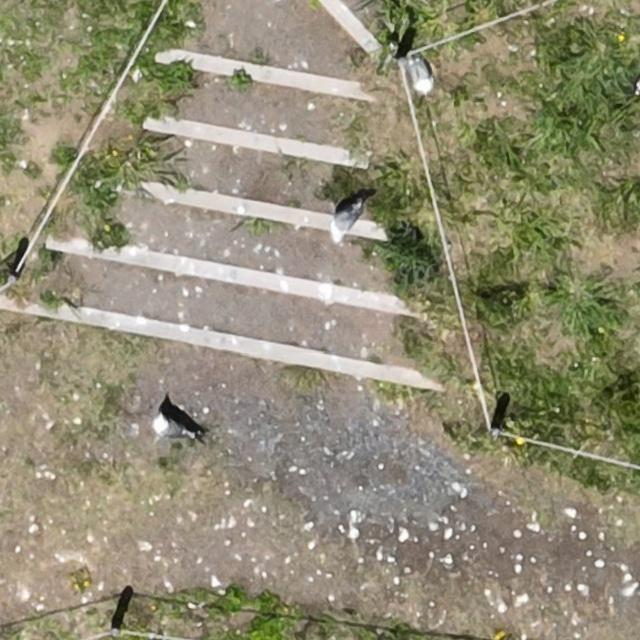umineko: (333, 207, 355, 239), (411, 60, 432, 91), (156, 419, 188, 438)
